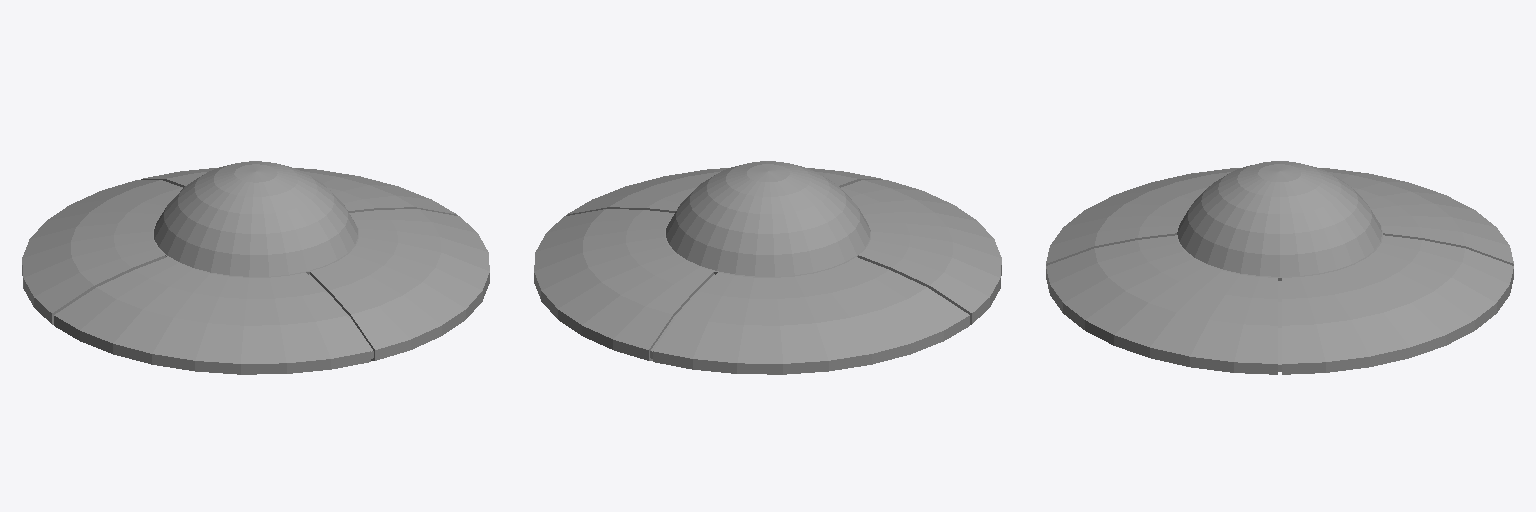
Rendered from spaceship.obj.
The picture shows the model from 3 angles: view 1: azimuth 30°, elevation 25°; view 2: azimuth 150°, elevation 25°; view 3: azimuth 270°, elevation 25°; orthographic projection.
Visible parts, largest first — view 1: UFO_body; view 2: UFO_body; view 3: UFO_body.
Boxes of the visible parts, box(x1,y1,x2,y2) form: UFO_body: box(22, 161, 489, 374); UFO_body: box(534, 161, 1001, 374); UFO_body: box(1046, 161, 1513, 374).
Size of the model in its own units: 2.14 by 0.8524 by 2.14.